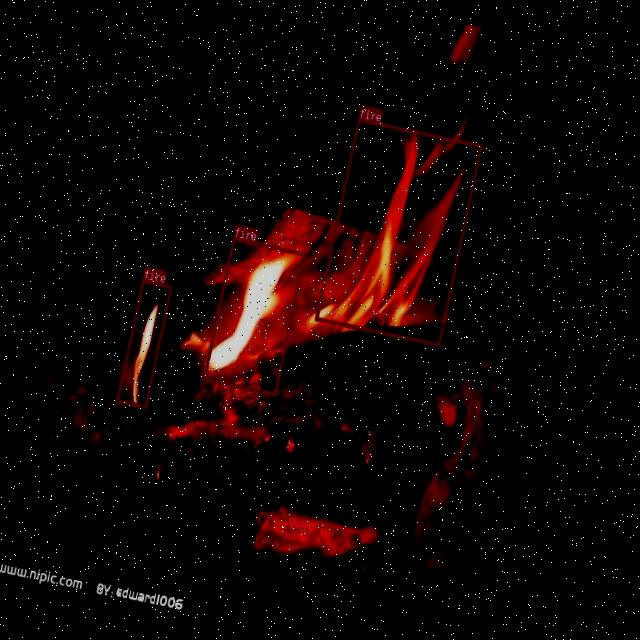fire: (314, 117, 482, 346), (202, 236, 306, 394), (115, 278, 172, 408)
